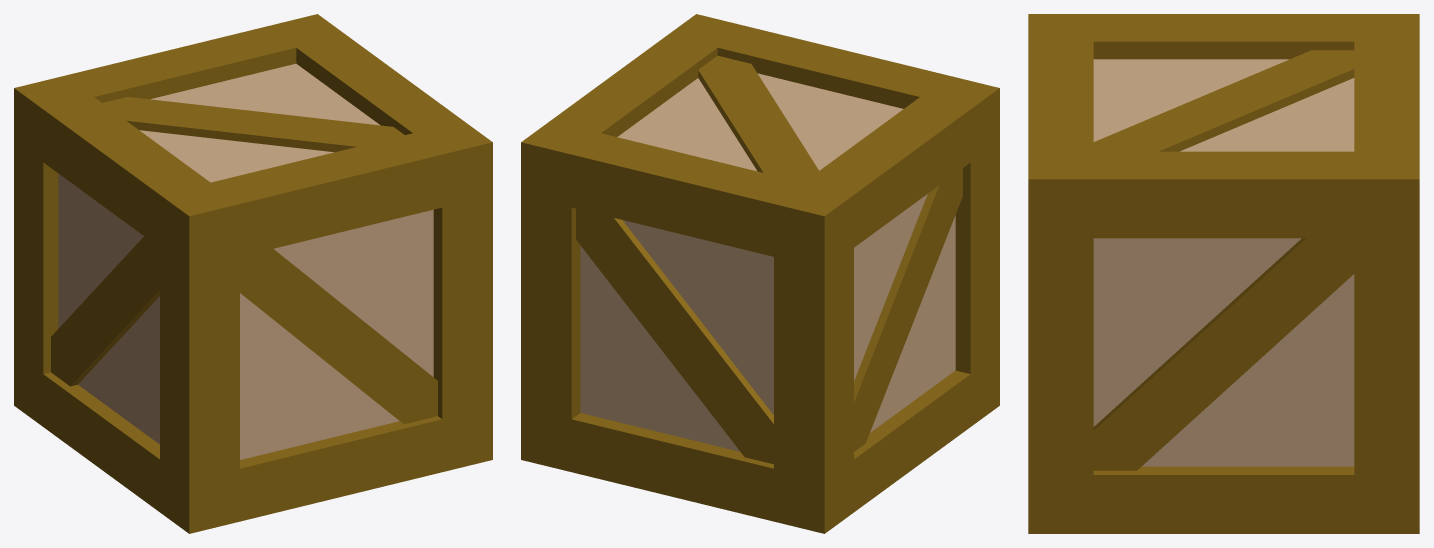
Rendered from crate.fbx.
The picture shows the model from 3 angles, left to right: view 1: azimuth 30°, elevation 25°; view 2: azimuth 150°, elevation 25°; view 3: azimuth 270°, elevation 25°; orthographic projection. The views are drawn at different scales.
Visible parts, largest first — view 1: Cube; view 2: Cube; view 3: Cube.
Boxes of the visible parts, left/top/right/bottom form: Cube: left=14, top=14, right=492, bottom=533; Cube: left=521, top=14, right=999, bottom=533; Cube: left=1028, top=14, right=1419, bottom=533.
Size of the model in its own units: 100 by 100 by 100.
